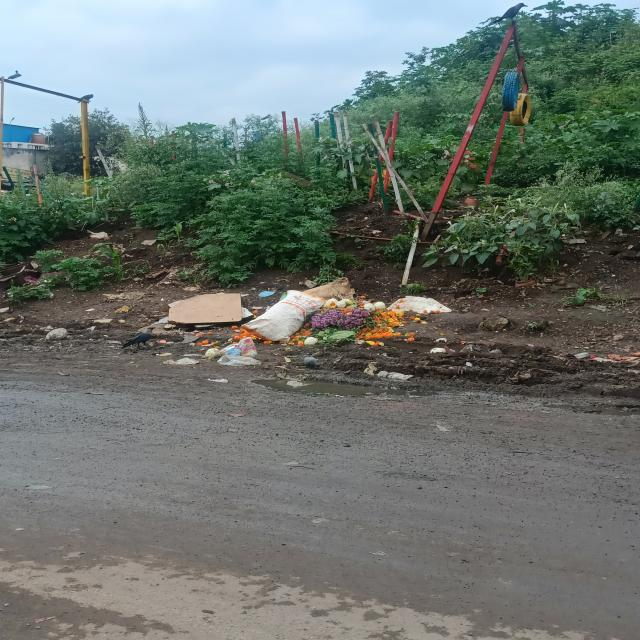garbage: (168, 285, 425, 376)
